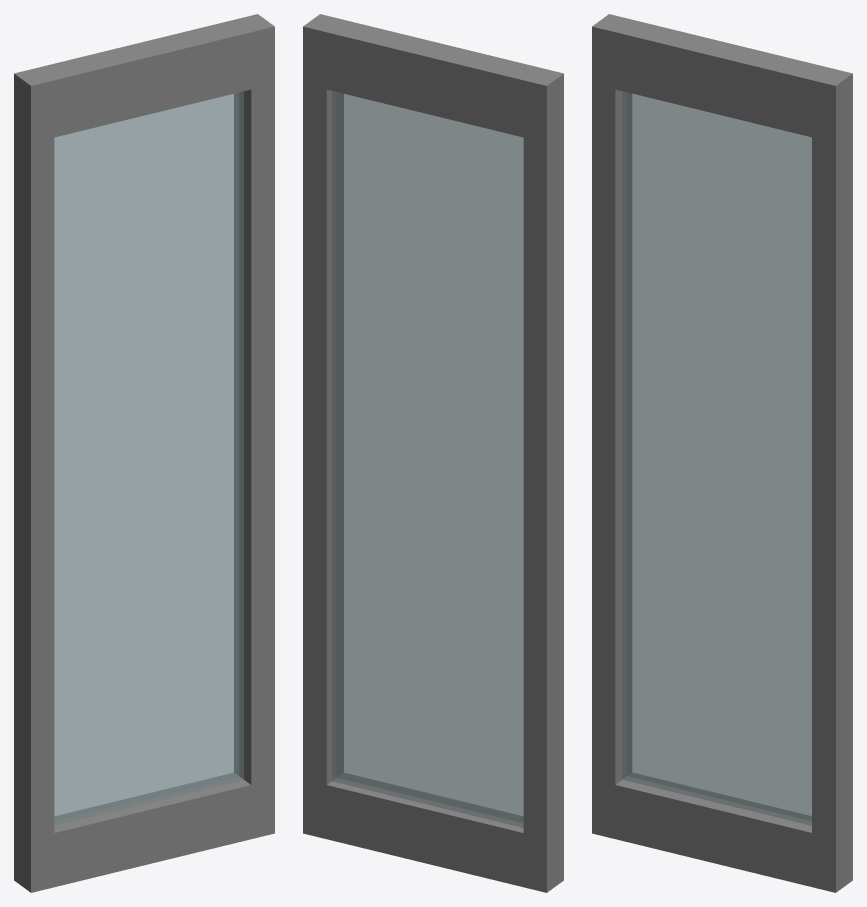
File: LiftDoor_01a_snaps019.fbx
3 views of the same model, side by side, from view 1: azimuth 30°, elevation 25°; view 2: azimuth 150°, elevation 25°; view 3: azimuth 330°, elevation 25° (orthographic).
Visible parts, largest first — view 1: LiftDoor_01a_snaps019_LOD0; view 2: LiftDoor_01a_snaps019_LOD0; view 3: LiftDoor_01a_snaps019_LOD0.
Part boxes in pixels (x1,y1,x2,y2): LiftDoor_01a_snaps019_LOD0: (14, 14, 274, 892); LiftDoor_01a_snaps019_LOD0: (303, 14, 563, 892); LiftDoor_01a_snaps019_LOD0: (592, 14, 852, 892).
Size of what is drawn, in the model's own units: 69.88 by 221 by 8.5.
